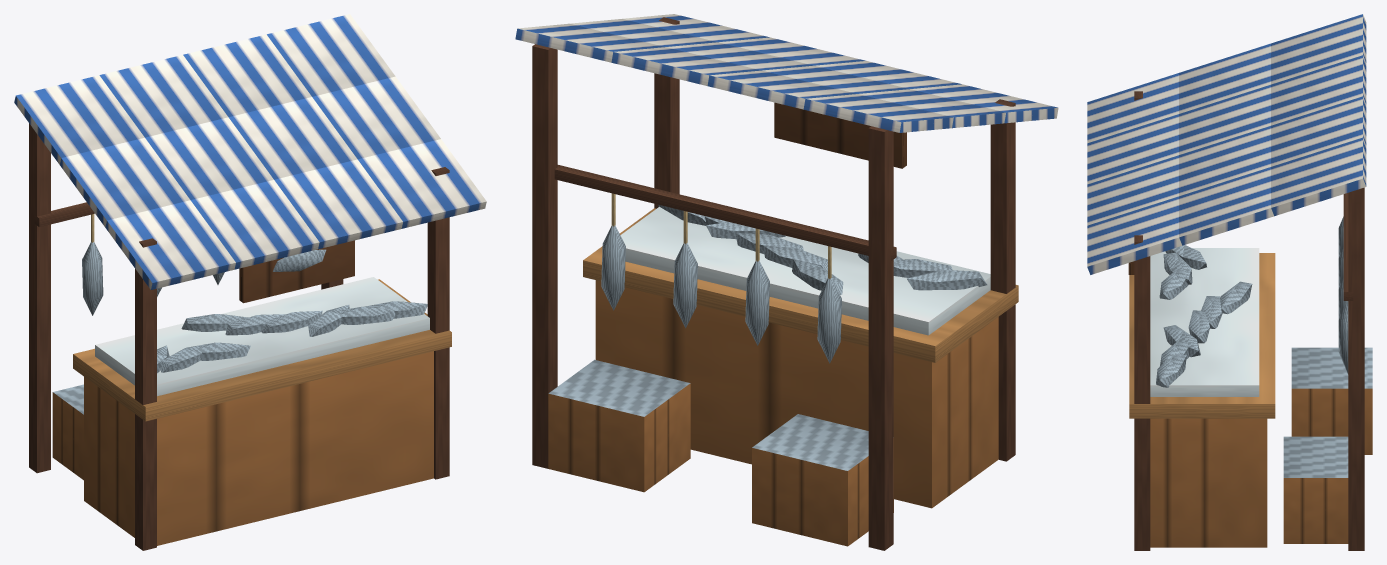
Rendered from dock_fish_stall_01.glb.
3 views of the same model, side by side, from view 1: azimuth 30°, elevation 25°; view 2: azimuth 150°, elevation 25°; view 3: azimuth 270°, elevation 25° (orthographic). The views are drawn at different scales.
Visible parts, largest first — view 1: dock_fish_stall_01; view 2: dock_fish_stall_01; view 3: dock_fish_stall_01.
Boxes of the visible parts, bbox=[...] form: dock_fish_stall_01: bbox=[14, 14, 486, 550]; dock_fish_stall_01: bbox=[515, 14, 1058, 550]; dock_fish_stall_01: bbox=[1087, 14, 1372, 550].
Bounding box in the file's own units: 2.4 × 2.58 × 1.76.
1 material, 1 textured.
